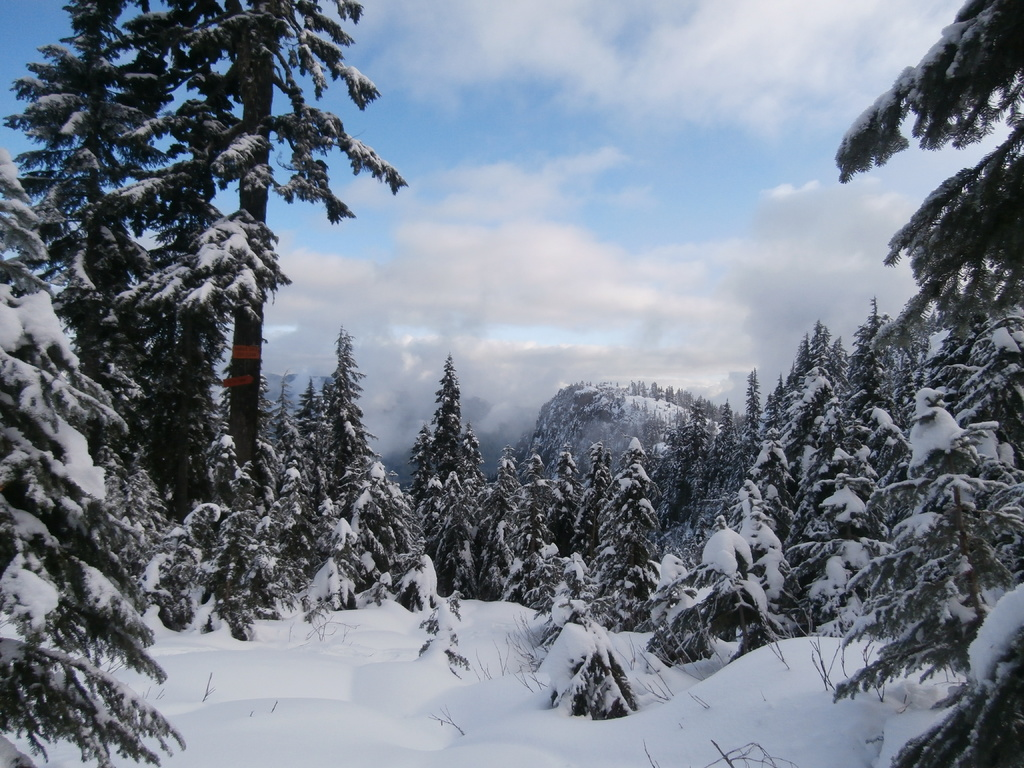Tree: (423, 0, 1023, 712), (0, 0, 408, 501), (0, 148, 187, 767)
